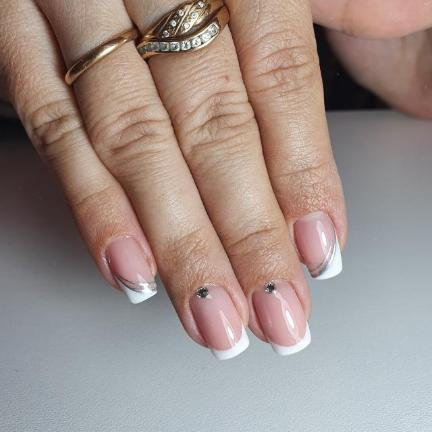Nail: (190, 286, 250, 361), (252, 280, 311, 356), (106, 237, 158, 305), (293, 212, 343, 280)
